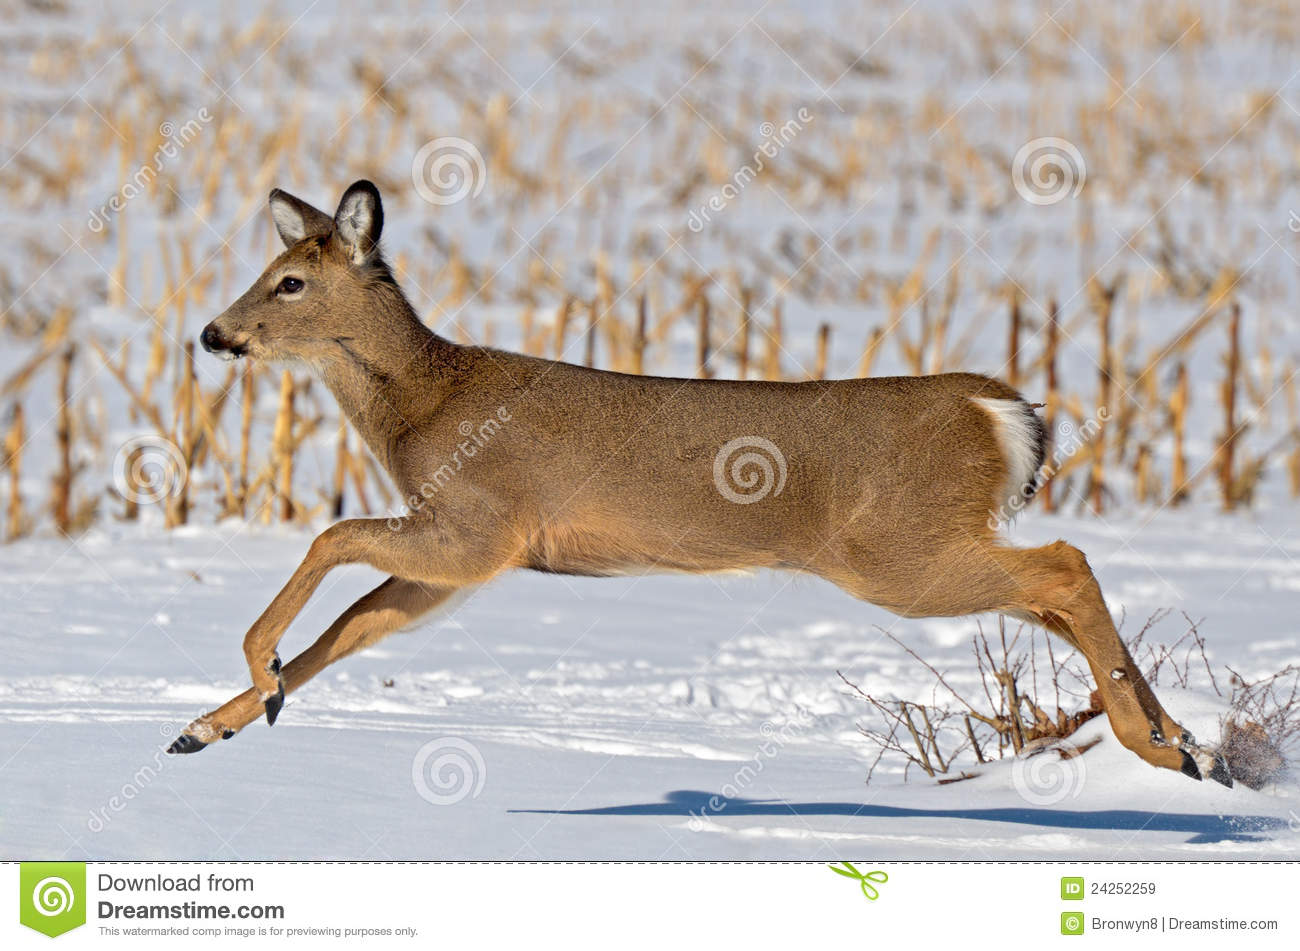Deer: (162, 178, 1247, 788)
